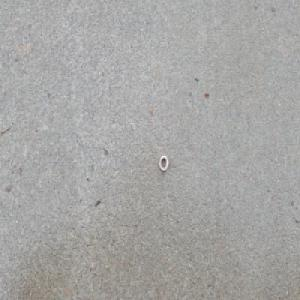Nut: (158, 154, 168, 171)
